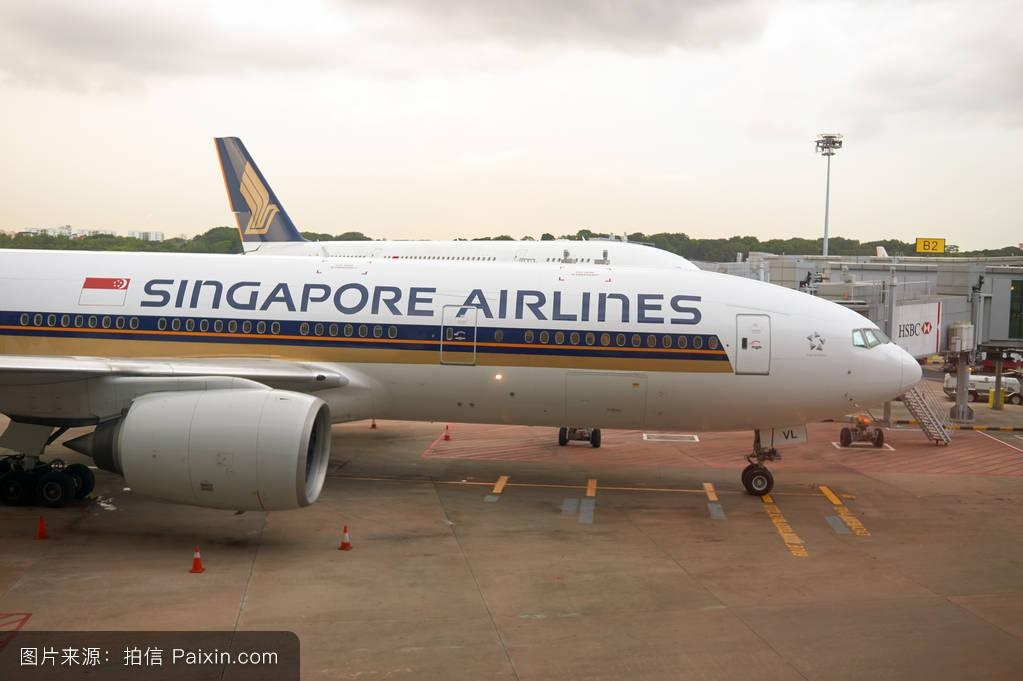airplane: (4, 134, 922, 515)
